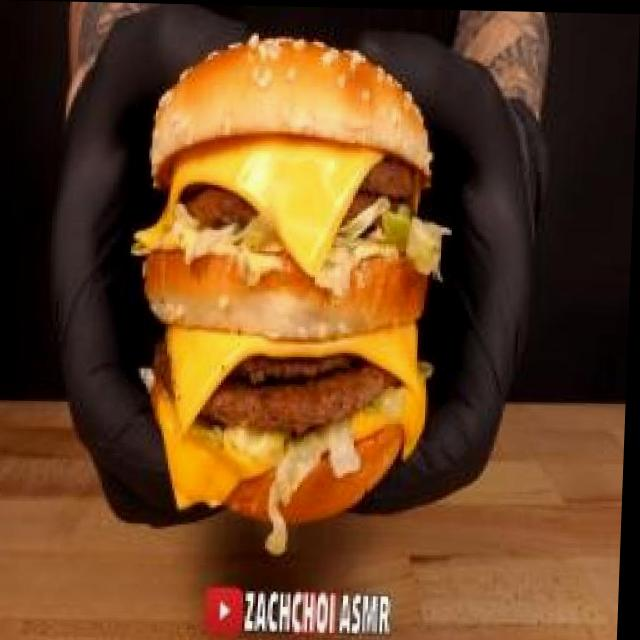burger: (132, 21, 452, 546)
